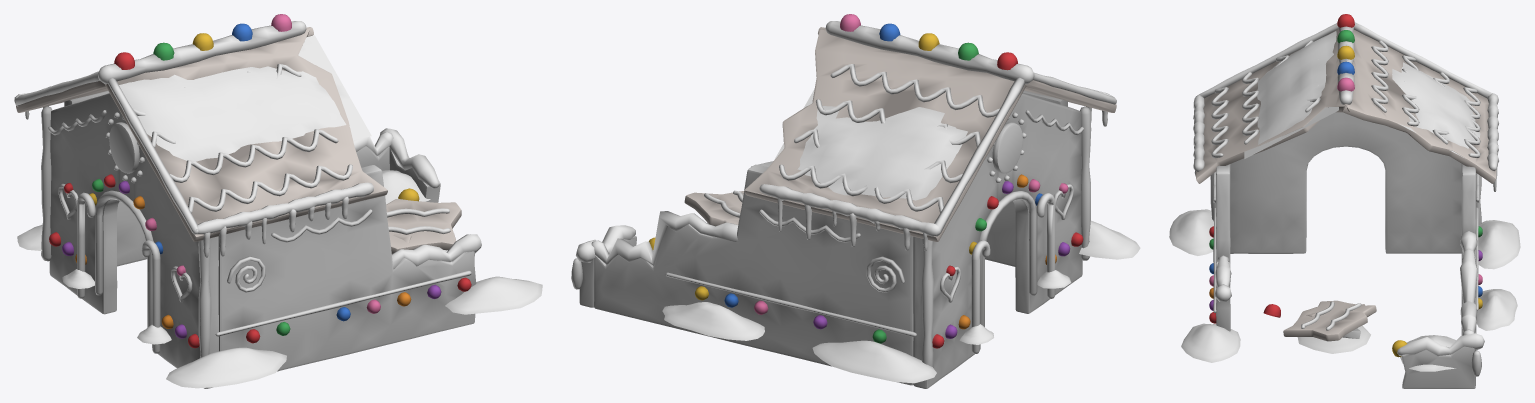
Rendered from ruinB.glb.
The picture shows the model from 3 angles, left to right: view 1: azimuth 30°, elevation 25°; view 2: azimuth 150°, elevation 25°; view 3: azimuth 270°, elevation 25°; orthographic projection. The views are drawn at different scales.
Visible parts, largest first — view 1: ruinB_gingerbread, ruinB_snow, ruinB_icing, ruinB_gumdrop, ruinB_candy, ruinB_mint; view 2: ruinB_gingerbread, ruinB_snow, ruinB_icing, ruinB_gumdrop, ruinB_candy, ruinB_mint; view 3: ruinB_gingerbread, ruinB_snow, ruinB_icing, ruinB_gumdrop.
Part boxes in pixels (x1,y1,x2,y2): ruinB_gingerbread: (16,27,476,388); ruinB_snow: (17,35,542,388); ruinB_icing: (14,21,471,357); ruinB_gumdrop: (49,14,471,348); ruinB_candy: (77,192,160,353); ruinB_mint: (109,122,139,173); ruinB_gingerbread: (579,27,1116,388); ruinB_snow: (576,89,1140,383); ruinB_icing: (571,21,1116,367); ruinB_gumdrop: (649,14,1083,348); ruinB_candy: (971,193,1055,353); ruinB_mint: (992,122,1022,173); ruinB_gingerbread: (1196,29,1496,388); ruinB_snow: (1169,31,1520,371); ruinB_icing: (1193,22,1498,376); ruinB_gumdrop: (1209,14,1482,357).
Size of the model in its own units: 8.28 by 5.54 by 7.58.
